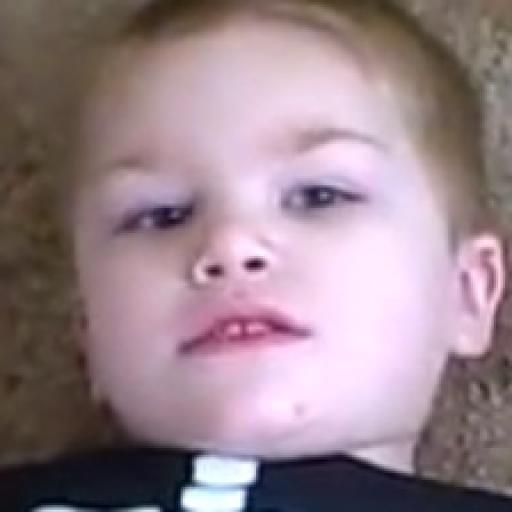Autism: (60, 25, 512, 512)
